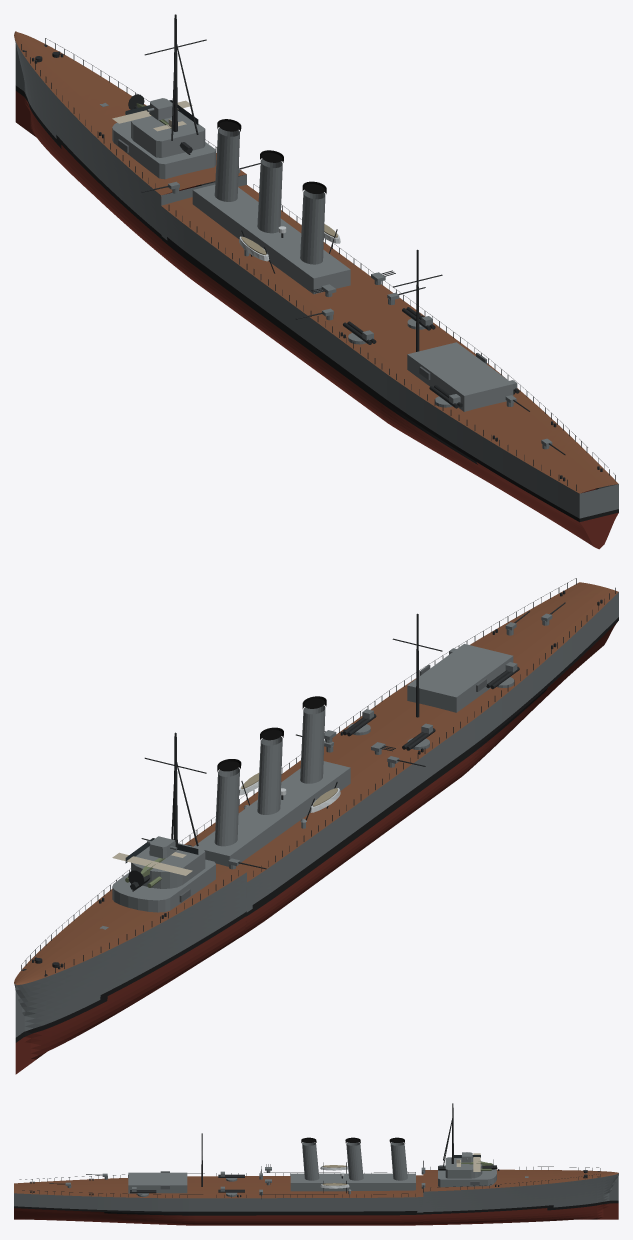
The model's file is nagara.glb.
3 views of the same model, one above another, from view 1: azimuth 30°, elevation 25°; view 2: azimuth 150°, elevation 25°; view 3: azimuth 270°, elevation 25° (orthographic). The views are drawn at different scales.
Parts seen in each view (by area): view 1: Hull; view 2: Hull; view 3: Hull.
Part boxes in pixels (x1=…): Hull: x1=14, y1=14, x2=618, y2=549; Hull: x1=14, y1=578, x2=618, y2=1074; Hull: x1=14, y1=1103, x2=618, y2=1225.
Size of the model in its own units: 21 by 34.8 by 164.
